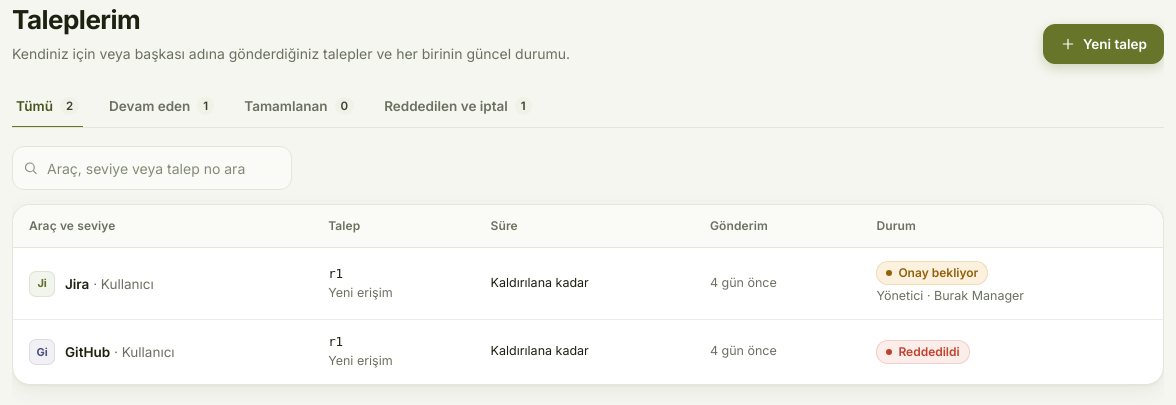
Test: my requests › lists items with their state and filters by tab
The width and height of the screenshot is (1176, 405).
expect the text "Jira" is shown: met, box [65, 276, 89, 292]
expect the text "GitHub" is shown: met, box [65, 344, 110, 360]
Step 1. Click the tab "Reddedilen ve iptal 1" → [458, 107], box [380, 86, 536, 128]
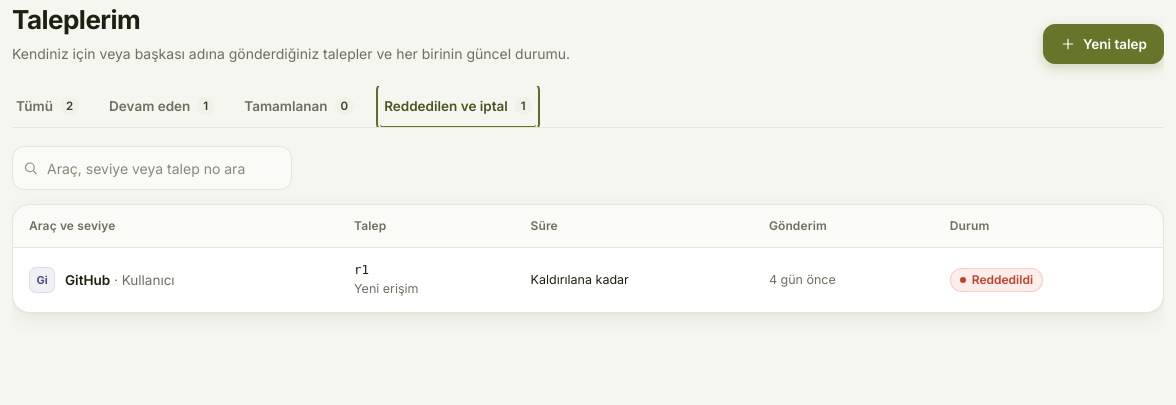
expect the text "Jira" is gone: met
